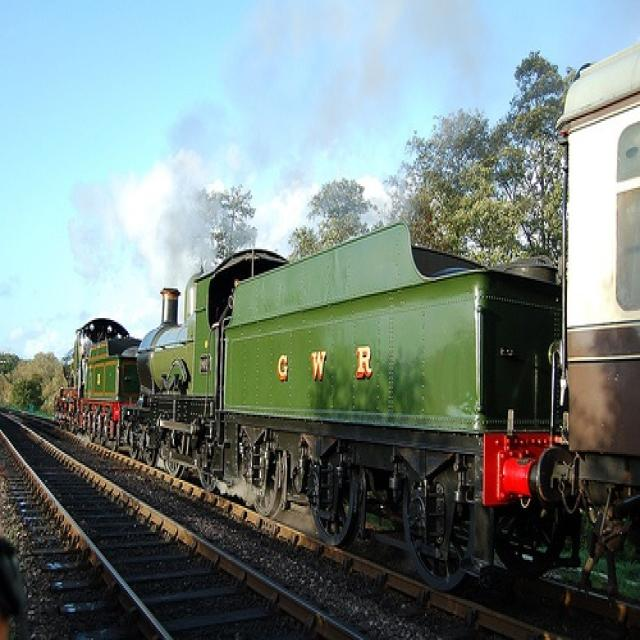train: (54, 35, 638, 632)
